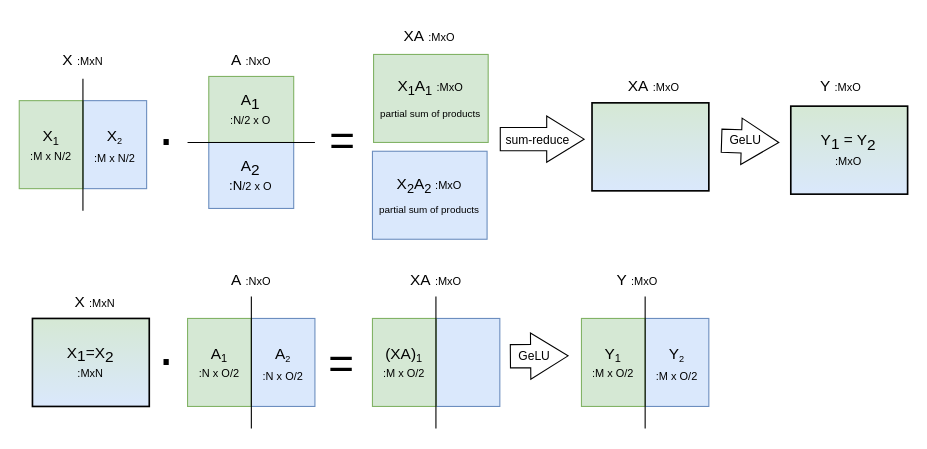
Image size: 927x449. Some labels were removed from this diagram. Here are the shapes that lost their labels. From the top down, the centre of each, then its label:
At pixel 650 146: "(XA) 1 = (XA) 2 :MxO".
At pixel 467 361: "(XA) 2 :M x O/2".
